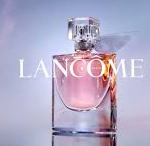lancome_la_vie_est_belle: (49, 14, 140, 135)
